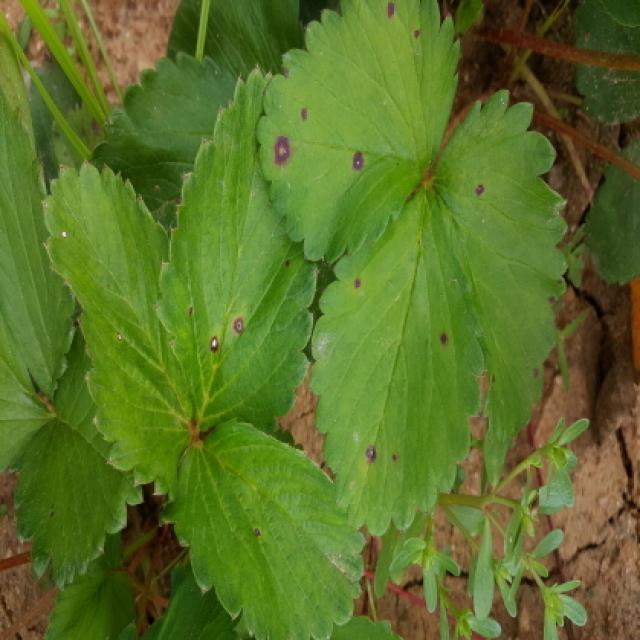Leaf Spot: (307, 178, 483, 536), (153, 64, 319, 435), (428, 87, 571, 490), (256, 0, 462, 265), (41, 160, 193, 496), (161, 421, 369, 638)
